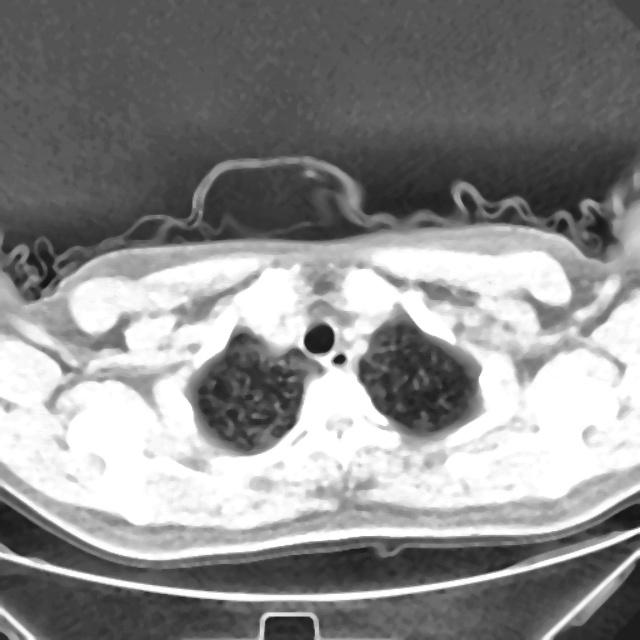covid: (0, 155, 639, 570)
